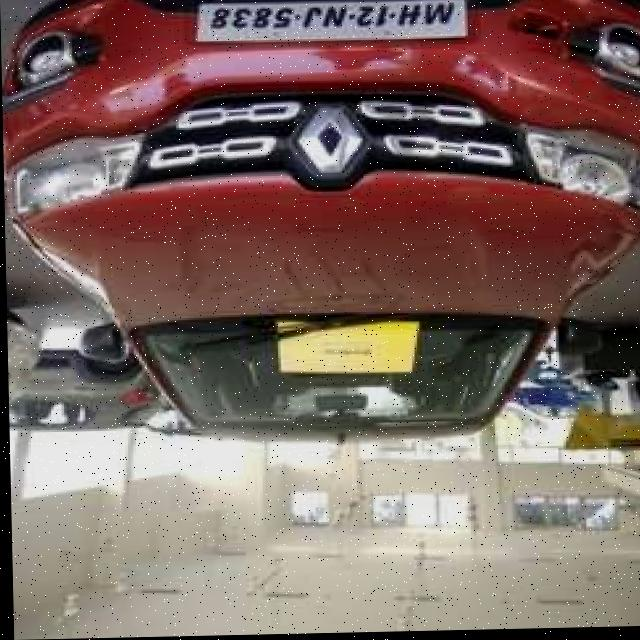plate: (195, 0, 469, 49)
